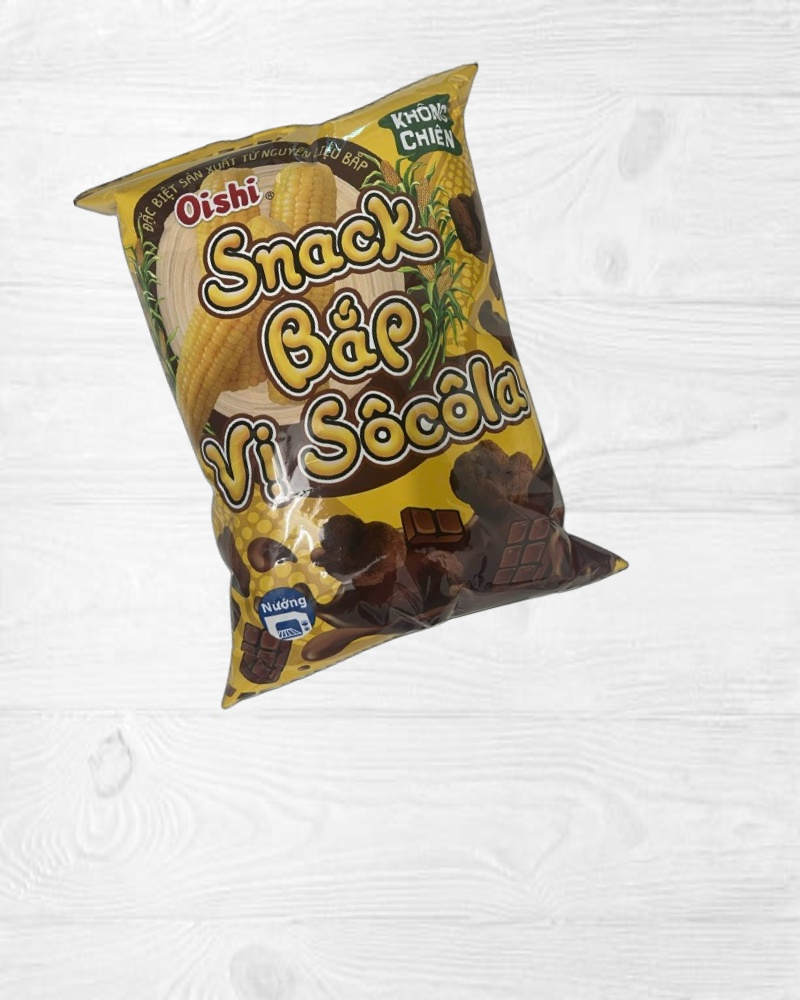Snack socola: (69, 61, 636, 701)
